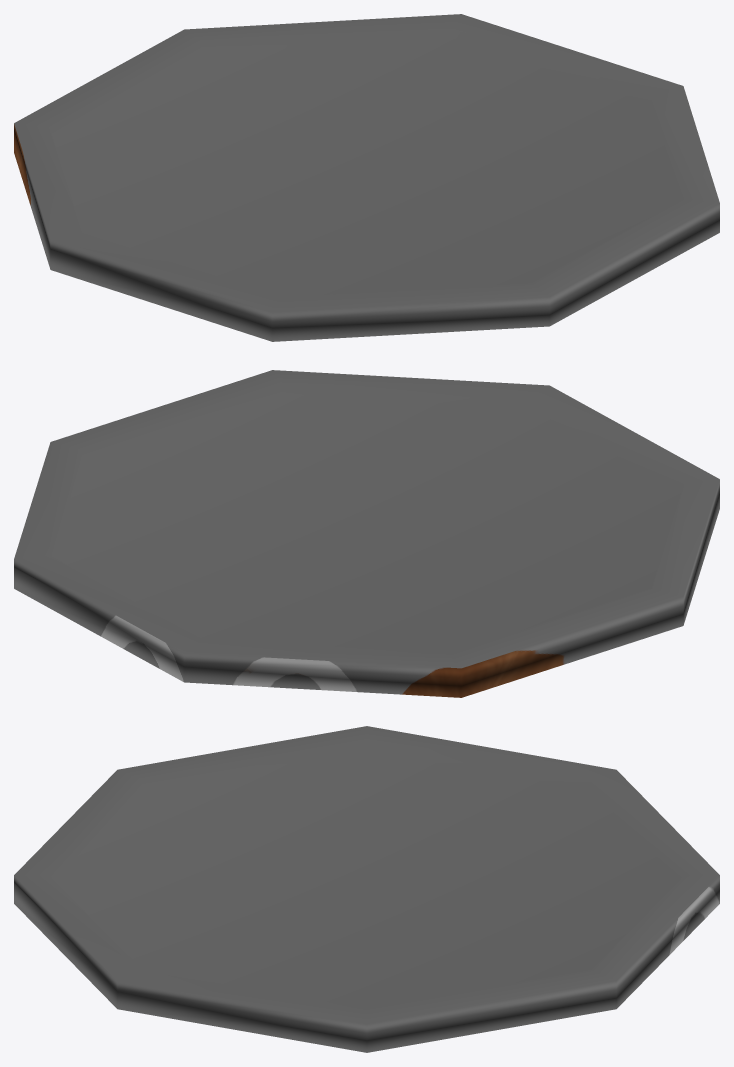
The model's file is BandejaOctogonal.fbx.
The picture shows the model from 3 angles, top to bottom: view 1: azimuth 30°, elevation 25°; view 2: azimuth 150°, elevation 25°; view 3: azimuth 270°, elevation 25°; orthographic projection. The views are drawn at different scales.
Visible parts, largest first — view 1: pCylinder50; view 2: pCylinder50; view 3: pCylinder50.
Part boxes in pixels (x1,y1,x2,y2): pCylinder50: (14,14,719,341); pCylinder50: (14,370,719,697); pCylinder50: (14,726,719,1052).
Bounding box in the file's own units: 25.72 × 1.15 × 25.72.
